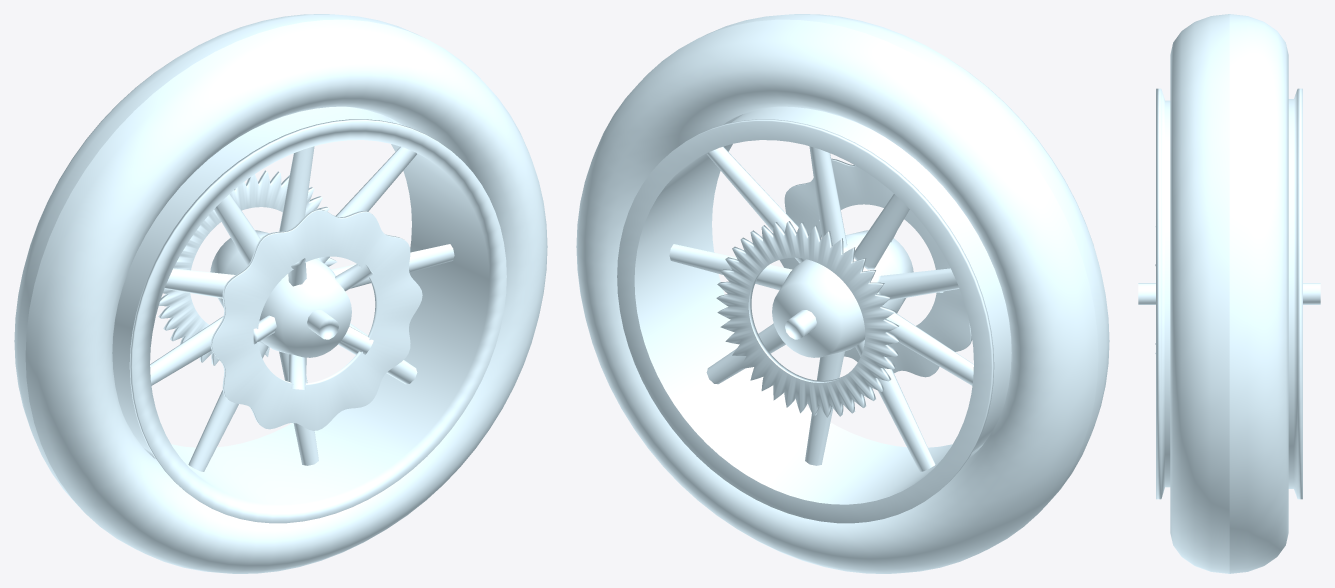
File: ronin-wheel-rear.v1.glb
3 renders of one model, left to right at view 1: azimuth 30°, elevation 25°; view 2: azimuth 150°, elevation 25°; view 3: azimuth 270°, elevation 25°, orthographic. The views are drawn at different scales.
Visible parts, largest first — view 1: ronin-wheel-rear; view 2: ronin-wheel-rear; view 3: ronin-wheel-rear.
Part boxes in pixels (left/top/right/bottom): ronin-wheel-rear: left=14, top=14, right=547, bottom=573; ronin-wheel-rear: left=576, top=14, right=1109, bottom=573; ronin-wheel-rear: left=1138, top=14, right=1320, bottom=573.
Size of the model in its own units: 0.6138 by 0.6138 by 0.2.
